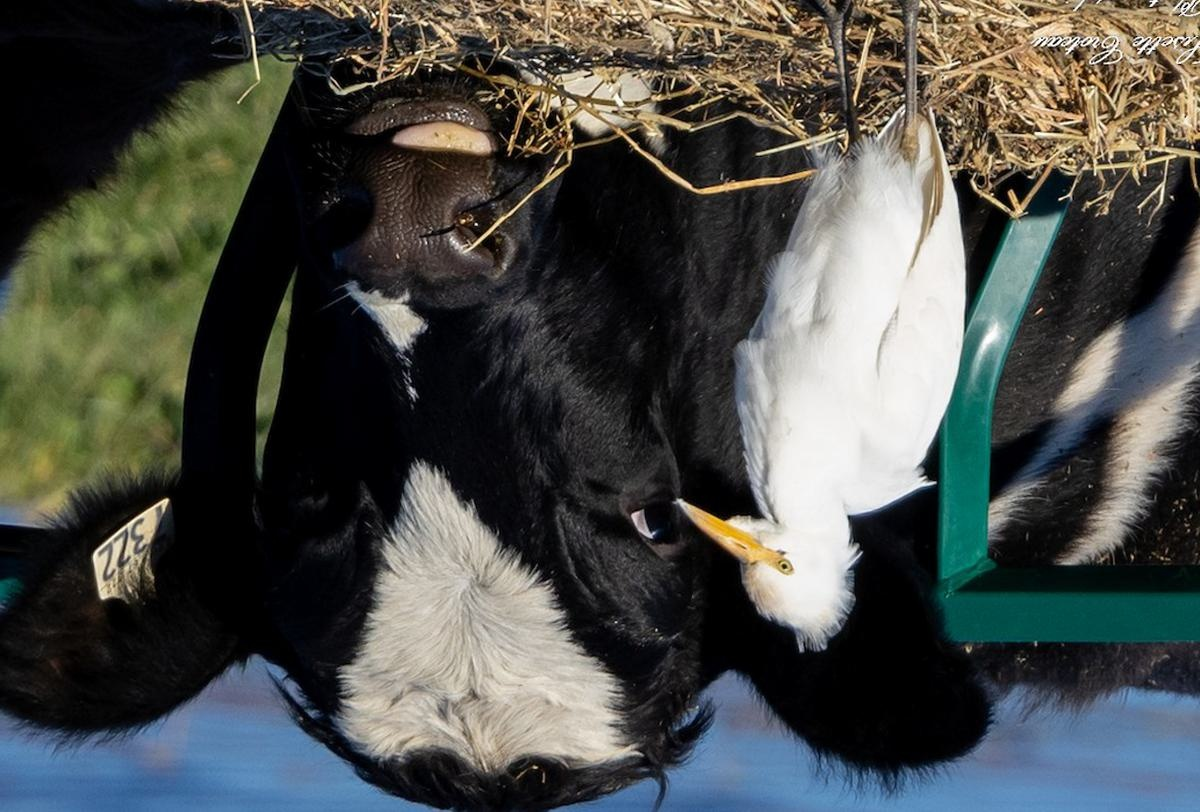egret: (671, 1, 987, 641)
